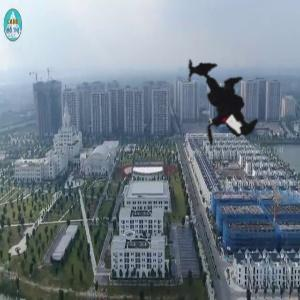drone: (145, 33, 288, 176)
